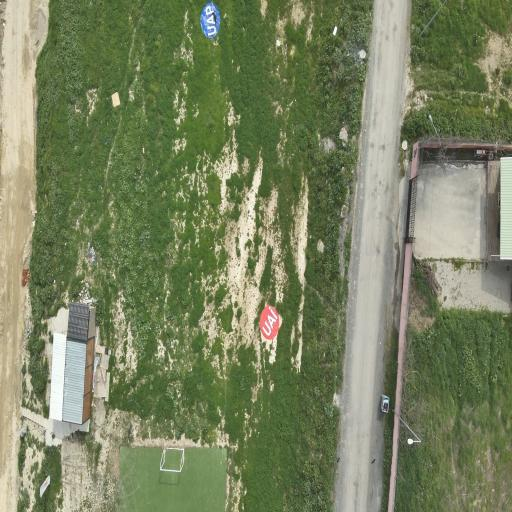person: (212, 12, 216, 24)
uai: (260, 305, 280, 340)
uap: (201, 2, 221, 38)
